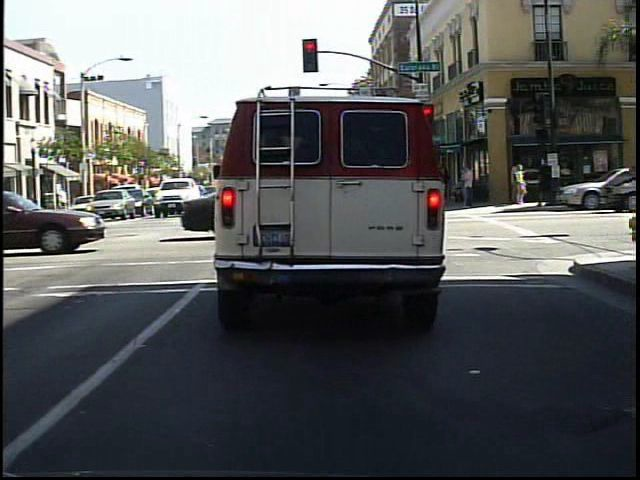person: (534, 156, 555, 212), (511, 164, 531, 208)
